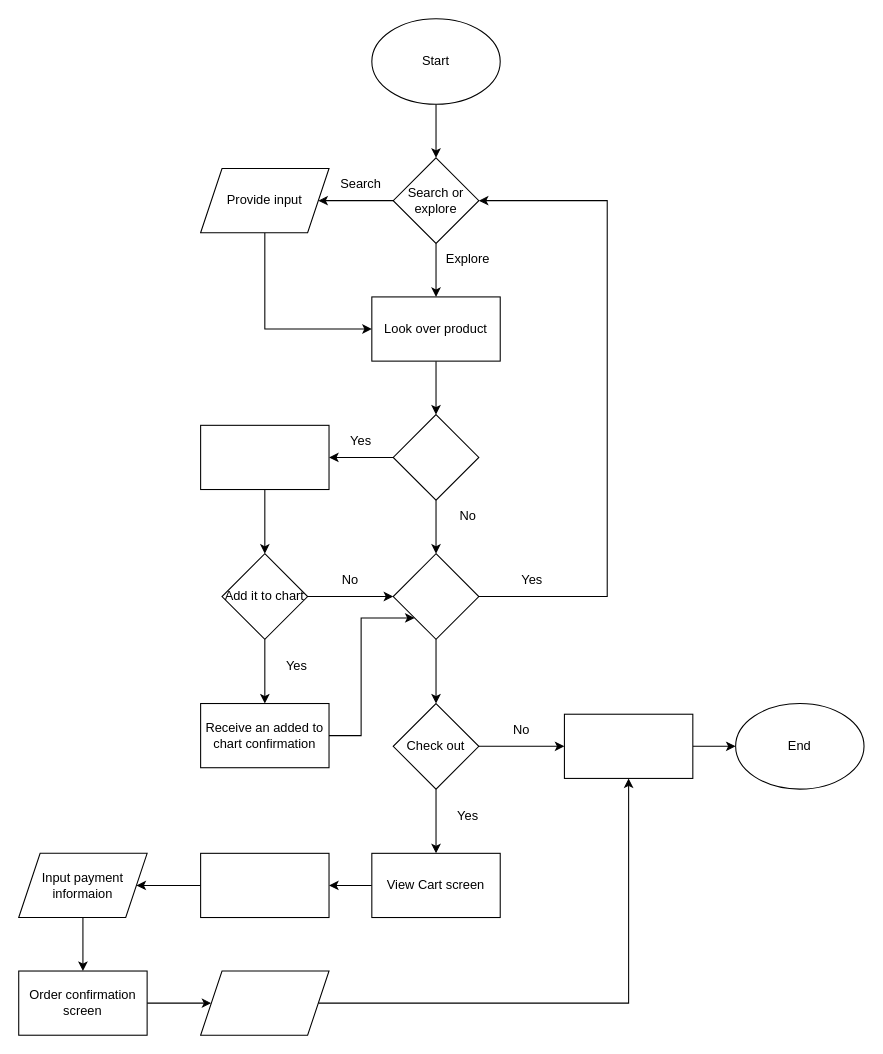
This 883x1054 diagram has some shape labels left out. The box of each missing label's shape, as (x1, y1, x2, y2) in pixels:
Continue shopping: (392, 553, 479, 639)
Leave the website: (563, 713, 693, 778)
Open product's webpage: (200, 424, 329, 490)
Receive confirmation email: (200, 970, 329, 1035)
View a specific product: (392, 414, 479, 500)
View Payment screen: (200, 852, 329, 918)
